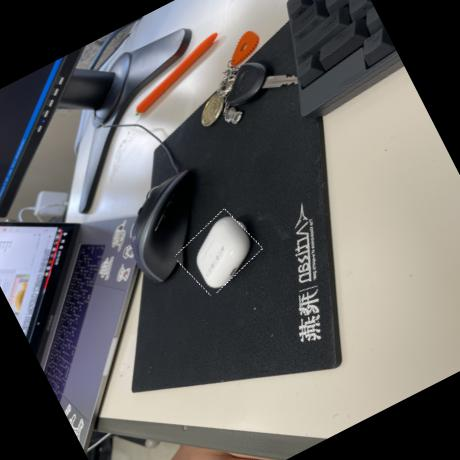airpod3: (170, 206, 267, 298)
